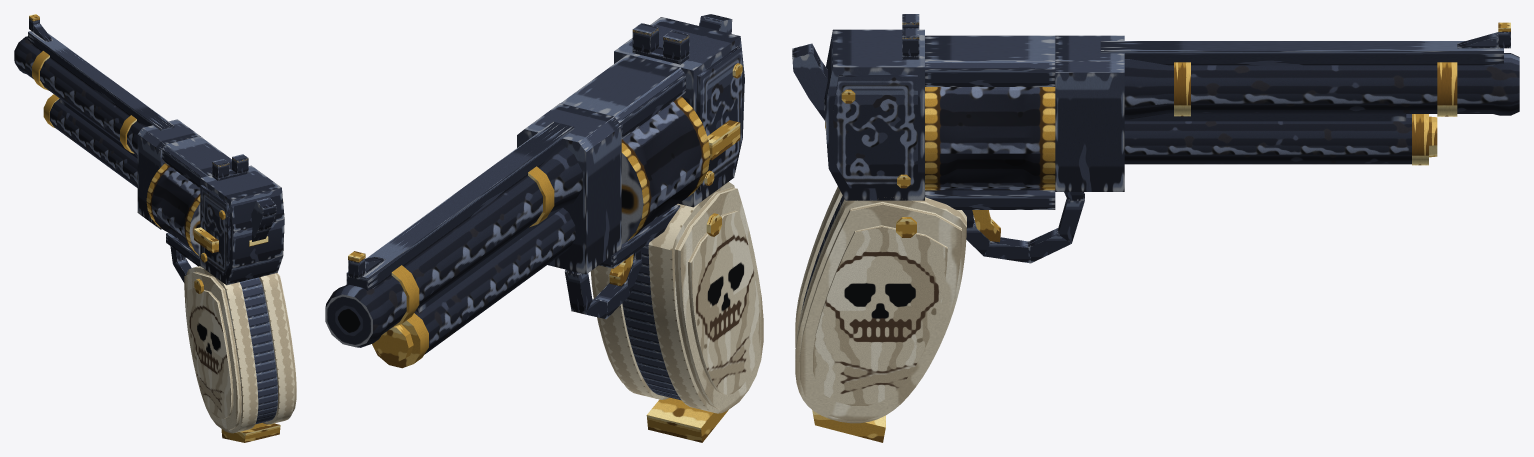
File: pistol_cannon_base.glb
3 renders of one model, left to right at view 1: azimuth 30°, elevation 25°; view 2: azimuth 150°, elevation 25°; view 3: azimuth 270°, elevation 25°, orthographic. The views are drawn at different scales.
Parts seen in each view (by area): view 1: frame, magazine, hammer; view 2: frame, magazine, hammer; view 3: frame, magazine, hammer.
Part boxes in pixels (x1,y1,x2,y2): frame: (14, 14, 296, 442); magazine: (146, 163, 200, 256); hammer: (249, 197, 276, 246); frame: (325, 17, 763, 442); magazine: (621, 96, 710, 244); hammer: (699, 14, 732, 33); frame: (795, 14, 1519, 442); magazine: (925, 87, 1055, 190); hammer: (792, 43, 827, 128).
Bounding box in the file's own units: 0.045 × 0.1577 × 0.2568.
2 materials, 2 textured.
